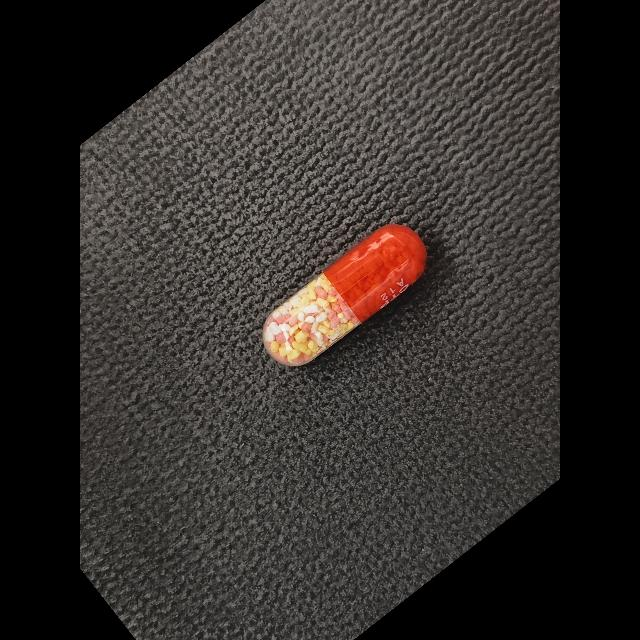Intact Capsule: (262, 224, 427, 366)
